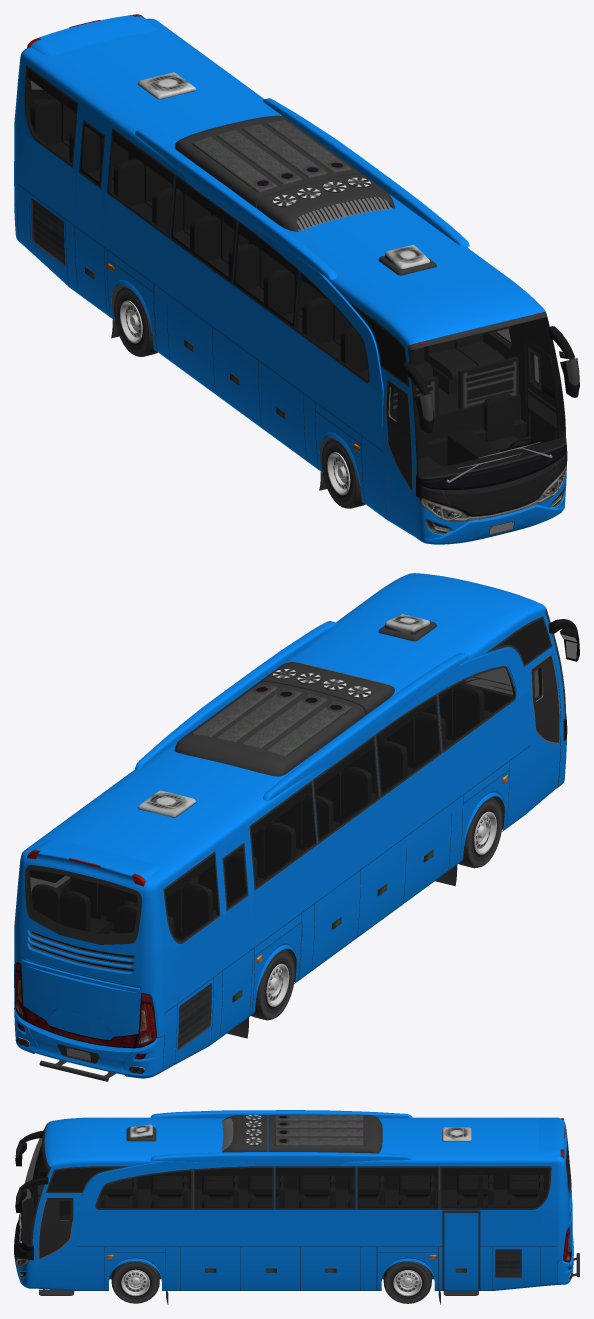
The model's file is Bus.FBX.
3 renders of one model, top to bottom at view 1: azimuth 30°, elevation 25°; view 2: azimuth 150°, elevation 25°; view 3: azimuth 270°, elevation 25°, orthographic. The views are drawn at different scales.
Parts seen in each view (by area): view 1: Body, Door_R, Door_L, Wheel_FR, Wheel_BR; view 2: Body, Door_R, Wheel_BR, Wheel_FR; view 3: Body, Door_L, Wheel_BL, Wheel_FL, Door_R.
Part boxes in pixels (x1=…): Body: x1=14, y1=14, x2=579, y2=544; Door_R: x1=384, y1=375, x2=418, y2=537; Door_L: x1=524, y1=338, x2=560, y2=442; Wheel_FR: x1=321, y1=438, x2=365, y2=508; Wheel_BR: x1=114, y1=286, x2=157, y2=356; Body: x1=14, y1=573, x2=579, y2=1081; Door_R: x1=528, y1=651, x2=560, y2=811; Wheel_BR: x1=251, y1=949, x2=294, y2=1020; Wheel_FR: x1=459, y1=797, x2=502, y2=868; Body: x1=14, y1=1110, x2=579, y2=1304; Door_L: x1=35, y1=1194, x2=77, y2=1290; Wheel_BL: x1=383, y1=1261, x2=431, y2=1303; Wheel_FL: x1=111, y1=1261, x2=159, y2=1303; Door_R: x1=35, y1=1160, x2=70, y2=1215.
Size of the model in its own units: 63.68 by 88.69 by 293.
